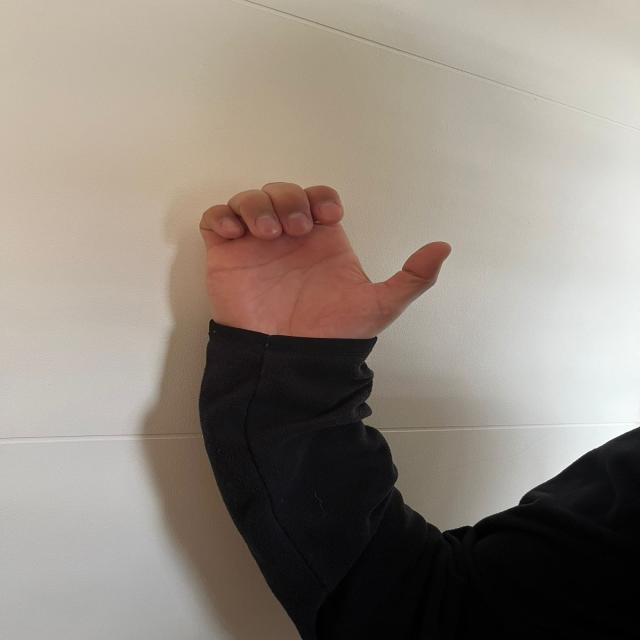E: (184, 173, 459, 367)
